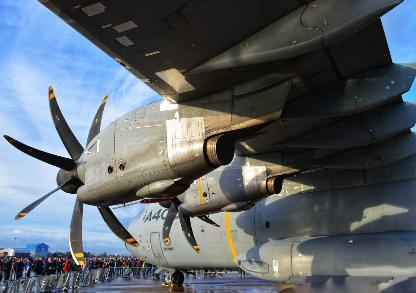A400M: (2, 0, 416, 291)
